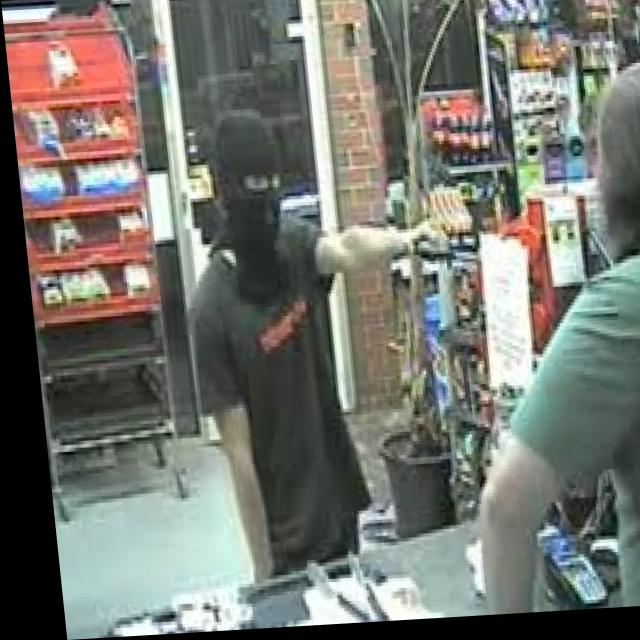handgun: (401, 217, 455, 279)
